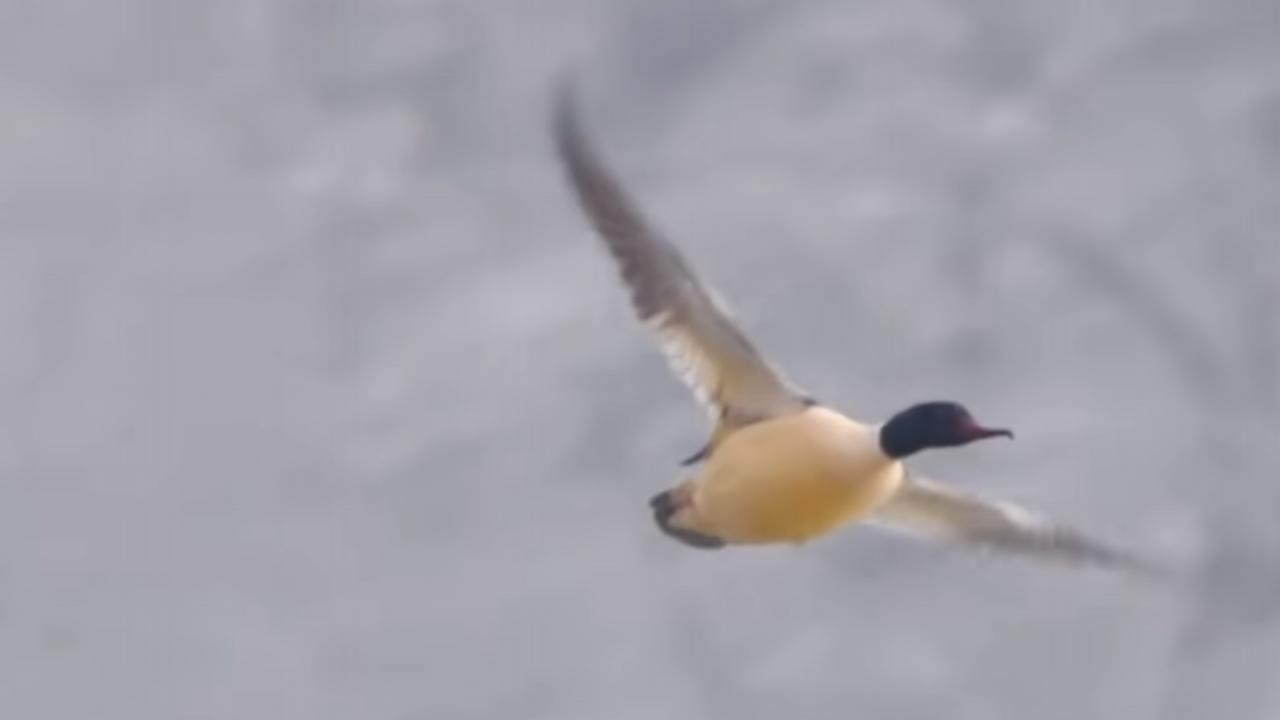Bird: (533, 49, 1158, 585)
